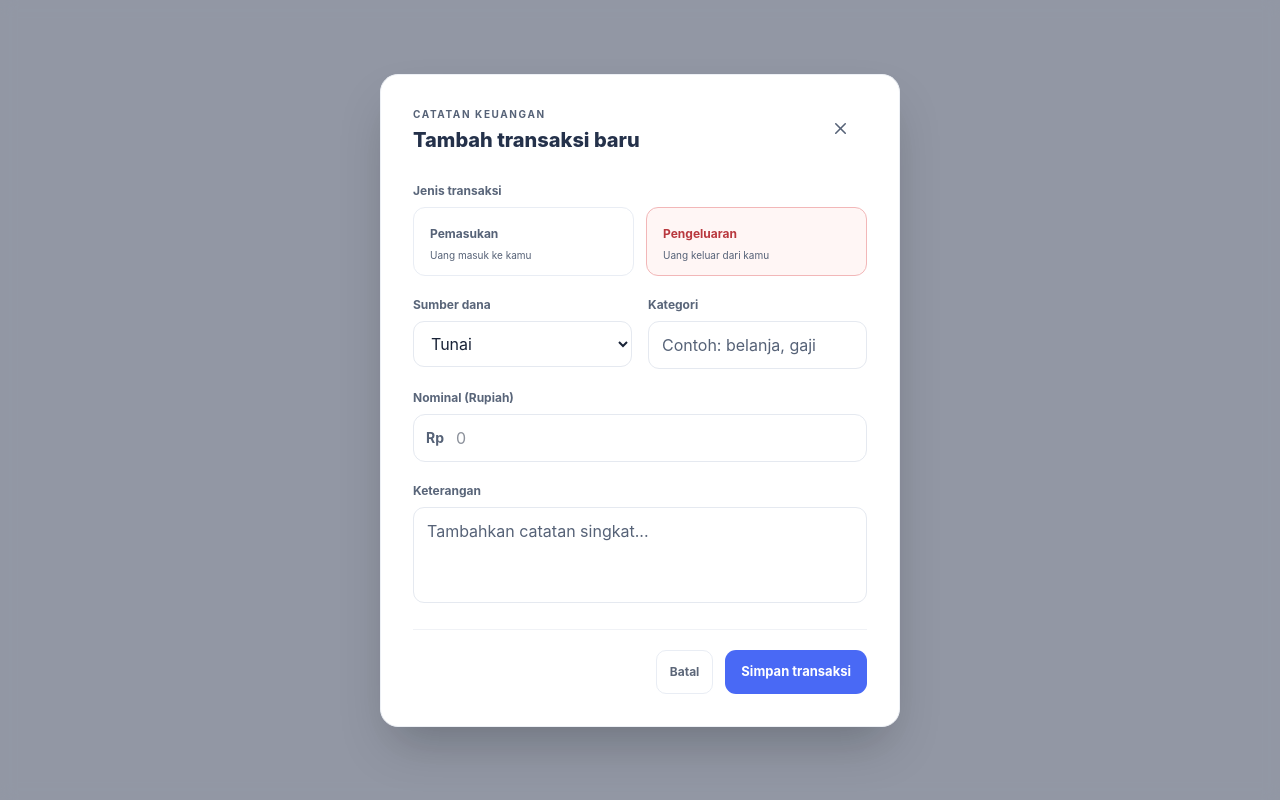
Test: TransactionModal › requires a description before sending a transaction to the API
Type "Kiriman" into the field labelled "Kategori" at (758, 344), box 648,320 -> 867,368
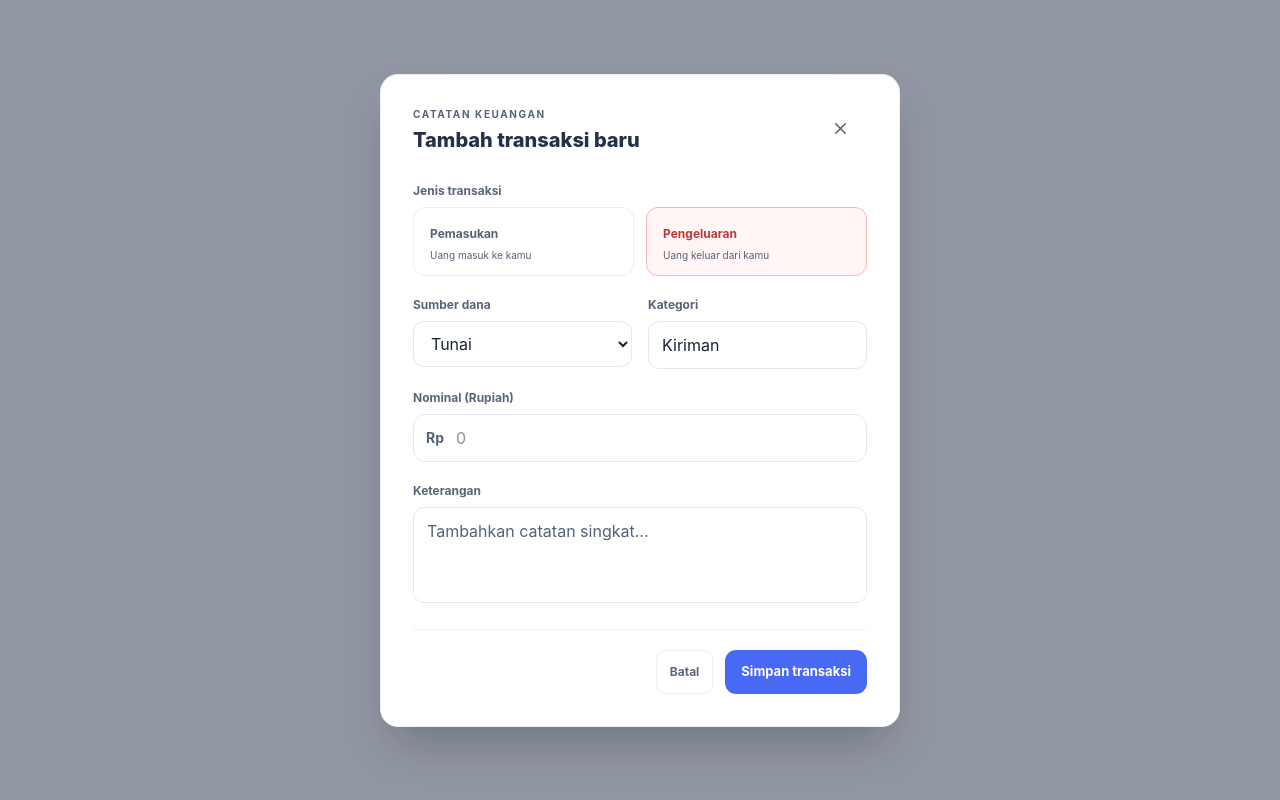
Type "140000" into the number field labelled "Nominal (Rupiah)" at (649, 438), box 444,414 -> 854,460
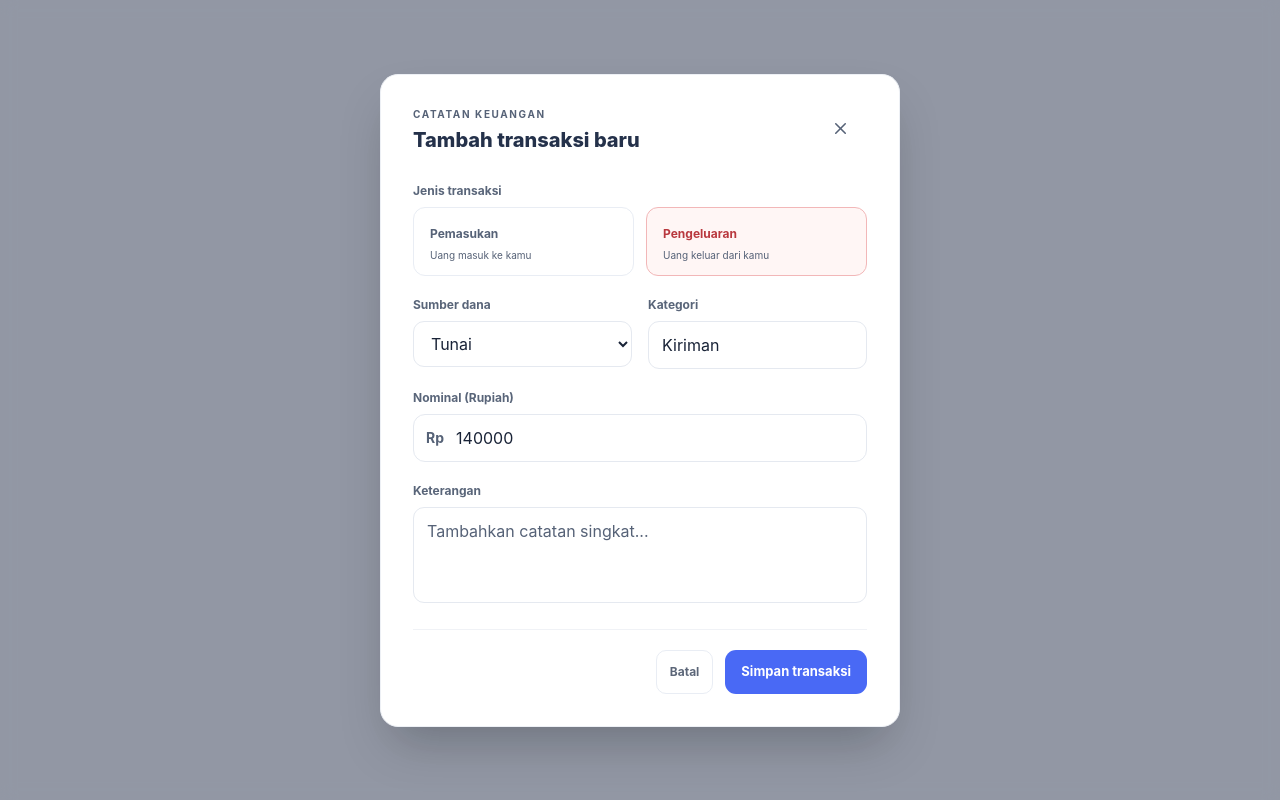
Click the button "Simpan transaksi" at (796, 672), box 725,650 -> 867,694
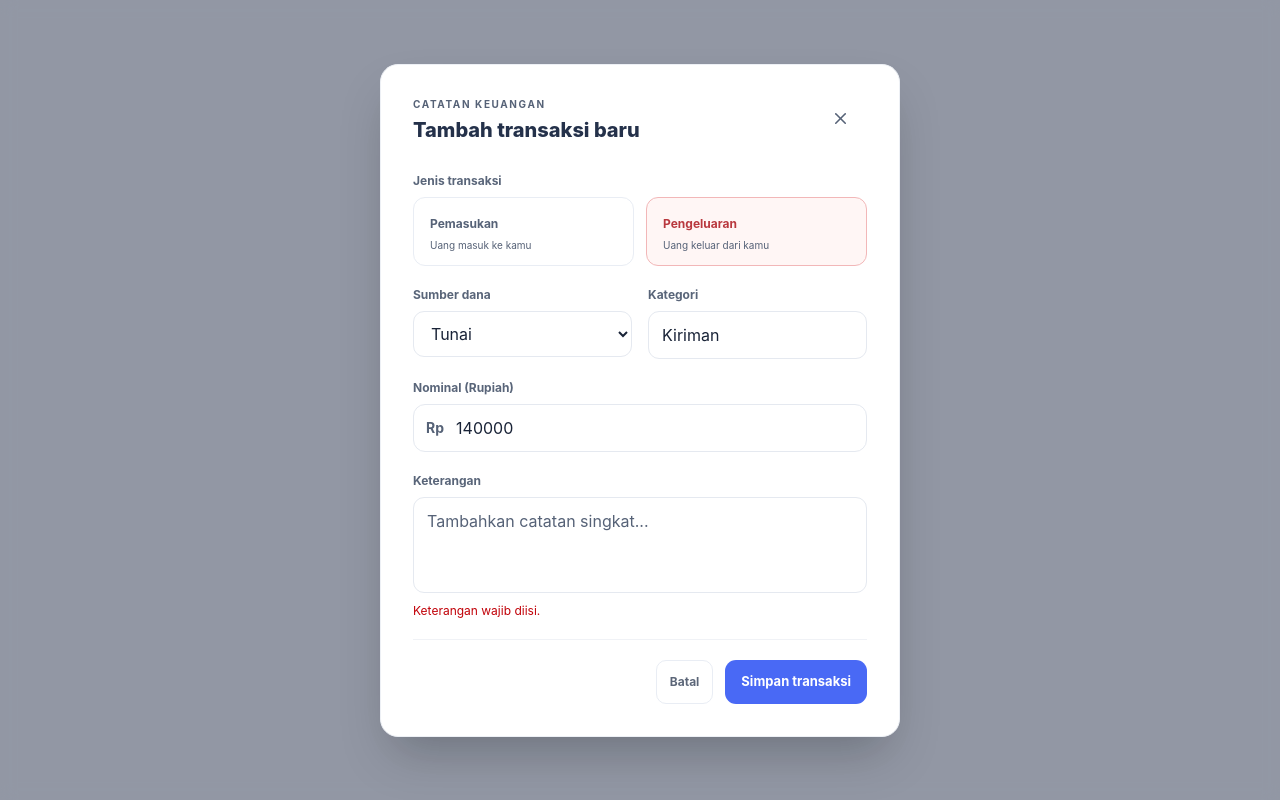
Now the text "Keterangan wajib diisi." is shown, box 413,602 -> 540,618
